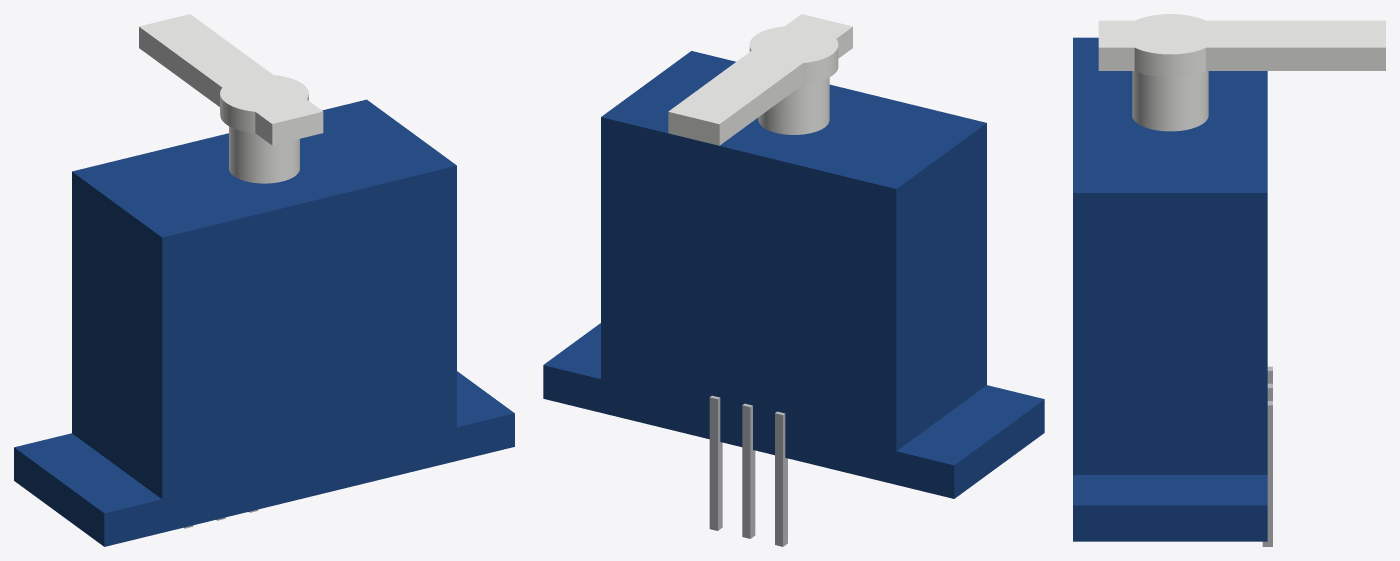
Rendered from servo-sg90.glb.
3 views of the same model, side by side, from view 1: azimuth 30°, elevation 25°; view 2: azimuth 150°, elevation 25°; view 3: azimuth 270°, elevation 25° (orthographic). The views are drawn at different scales.
Parts seen in each view (by area): view 1: object 1, horn, object 2; view 2: object 1, horn, object 2, lead-3, lead-2, lead-1; view 3: object 1, horn, object 2, lead-3.
Part boxes in pixels (left/top/right/bottom): object 1: left=14, top=99, right=514, bottom=546; horn: left=139, top=14, right=323, bottom=145; object 2: left=229, top=126, right=299, bottom=183; object 1: left=543, top=51, right=1044, bottom=498; horn: left=668, top=14, right=852, bottom=145; object 2: left=758, top=77, right=829, bottom=134; lead-3: left=709, top=395, right=722, bottom=530; lead-2: left=742, top=403, right=755, bottom=538; lead-1: left=775, top=411, right=787, bottom=546; object 1: left=1073, top=37, right=1267, bottom=541; horn: left=1098, top=14, right=1385, bottom=77; object 2: left=1132, top=71, right=1208, bottom=131; lead-3: left=1262, top=401, right=1272, bottom=546.
Size of the model in its own units: 0.032 by 0.0341 by 0.0196.
